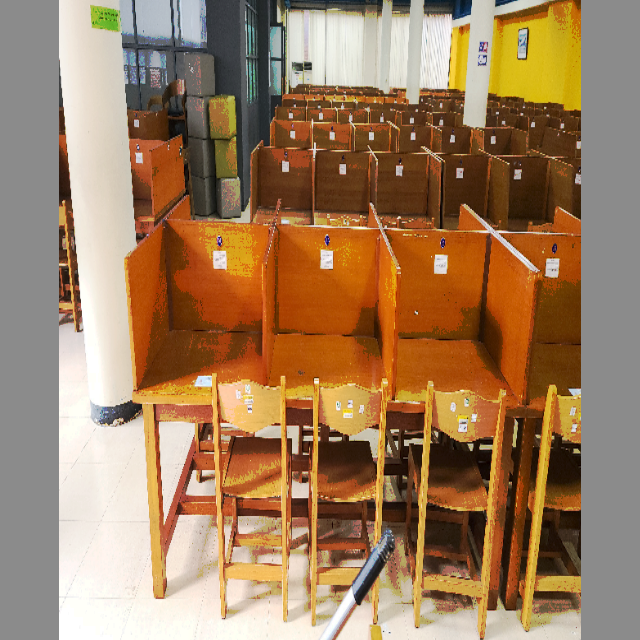empty: (403, 220, 532, 481), (131, 223, 265, 469), (269, 217, 397, 470)
